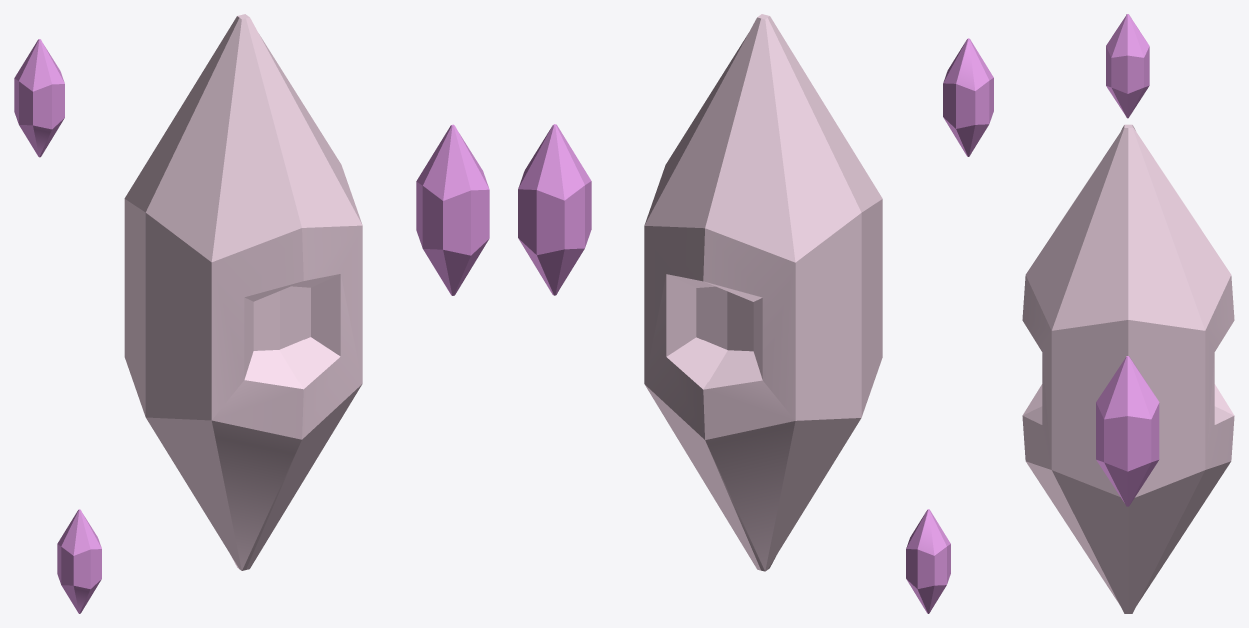
File: Prisma_quebrado.fbx
3 renders of one model, left to right at view 1: azimuth 30°, elevation 25°; view 2: azimuth 150°, elevation 25°; view 3: azimuth 270°, elevation 25°, orthographic. The views are drawn at different scales.
Parts seen in each view (by area): view 1: Inimigo_Prisma, Inimigo_Prisma.011, Inimigo_Prisma.001, Inimigo_Prisma.012, Inimigo_Prisma.007, Inimigo_Prisma.009, Inimigo_Prisma.002, Inimigo_Prisma.005, Inimigo_Prisma.008; view 2: Inimigo_Prisma, Inimigo_Prisma.011, Inimigo_Prisma.001, Inimigo_Prisma.012, Inimigo_Prisma.007, Inimigo_Prisma.002, Inimigo_Prisma.009, Inimigo_Prisma.005, Inimigo_Prisma.008, Inimigo_Prisma.003; view 3: Inimigo_Prisma.001, Inimigo_Prisma.012, Inimigo_Prisma.002, Inimigo_Prisma.008, Inimigo_Prisma.003, Inimigo_Prisma.006, Inimigo_Prisma.011.
Boxes of the visible parts, box(x1,y1,x2,y2) form: Inimigo_Prisma: box(14, 16, 470, 613); Inimigo_Prisma.011: box(124, 213, 303, 570); Inimigo_Prisma.001: box(238, 14, 362, 382); Inimigo_Prisma.012: box(242, 274, 362, 570); Inimigo_Prisma.007: box(416, 184, 470, 295); Inimigo_Prisma.009: box(57, 510, 90, 588); Inimigo_Prisma.002: box(452, 124, 489, 237); Inimigo_Prisma.005: box(14, 80, 51, 156); Inimigo_Prisma.008: box(454, 191, 489, 295); Inimigo_Prisma: box(537, 16, 993, 613); Inimigo_Prisma.011: box(703, 213, 882, 571); Inimigo_Prisma.001: box(644, 14, 768, 382); Inimigo_Prisma.012: box(644, 275, 764, 571); Inimigo_Prisma.007: box(536, 186, 591, 295); Inimigo_Prisma.002: box(518, 124, 554, 253); Inimigo_Prisma.009: box(917, 509, 950, 585); Inimigo_Prisma.005: box(956, 81, 993, 156); Inimigo_Prisma.008: box(518, 190, 553, 295); Inimigo_Prisma.003: box(943, 38, 969, 127); Inimigo_Prisma.001: box(1022, 124, 1234, 467); Inimigo_Prisma.012: box(1022, 331, 1234, 613); Inimigo_Prisma.002: box(1096, 356, 1159, 470); Inimigo_Prisma.008: box(1096, 403, 1159, 506); Inimigo_Prisma.003: box(1106, 14, 1149, 92); Inimigo_Prisma.006: box(1106, 48, 1149, 118); Inimigo_Prisma.011: box(1023, 384, 1233, 415).
Bounding box in the file's own units: 280 × 337 × 126.
